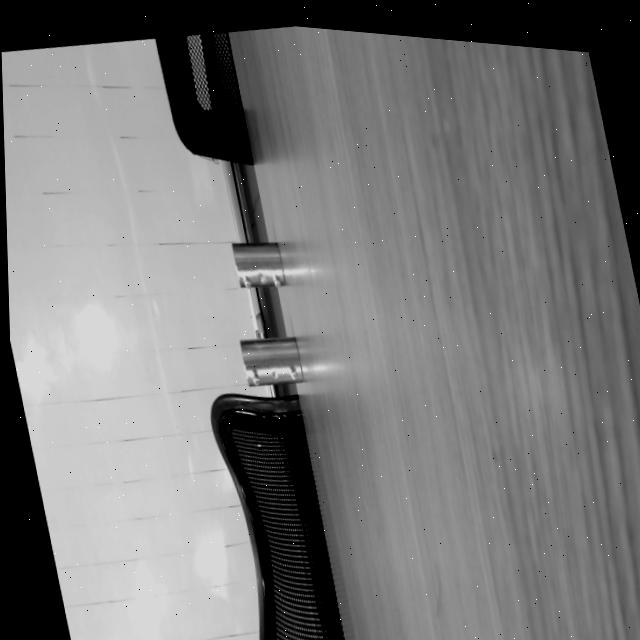Co_Lon: (239, 335, 302, 388)
Co_Nho: (230, 235, 285, 294)
